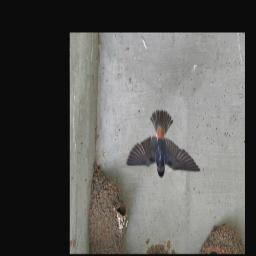Swallow: (125, 109, 203, 180)
